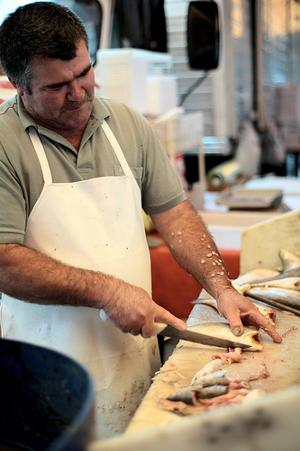person: (2, 1, 284, 429)
